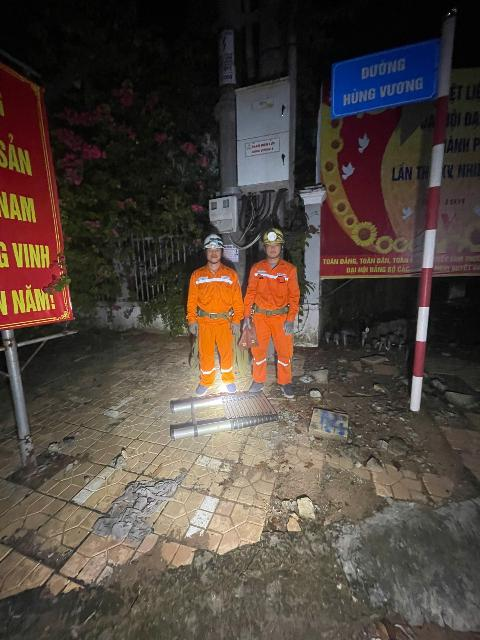gloves: (245, 314, 259, 350), (279, 321, 300, 338), (187, 321, 203, 337), (227, 320, 244, 335)
harness: (251, 297, 294, 318), (191, 306, 242, 321)
helmet: (257, 228, 289, 247), (198, 230, 228, 250)
shoes: (190, 380, 217, 396), (282, 384, 300, 403), (222, 379, 242, 394), (251, 378, 267, 395)
